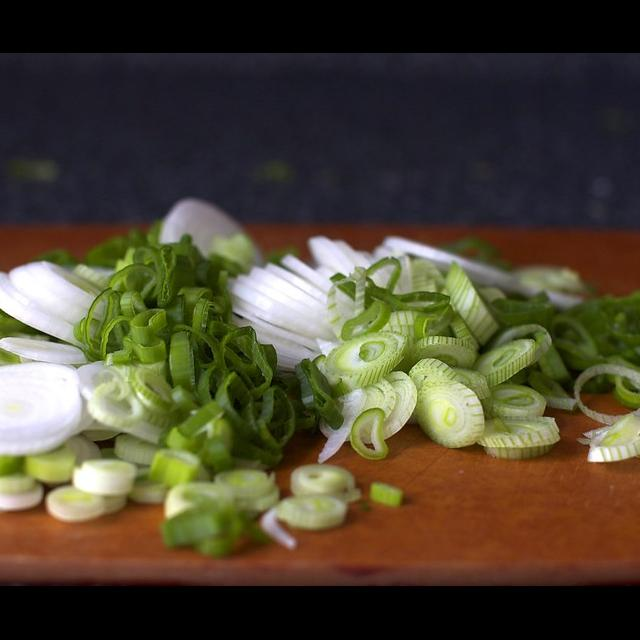green_onion: (0, 200, 640, 556)
